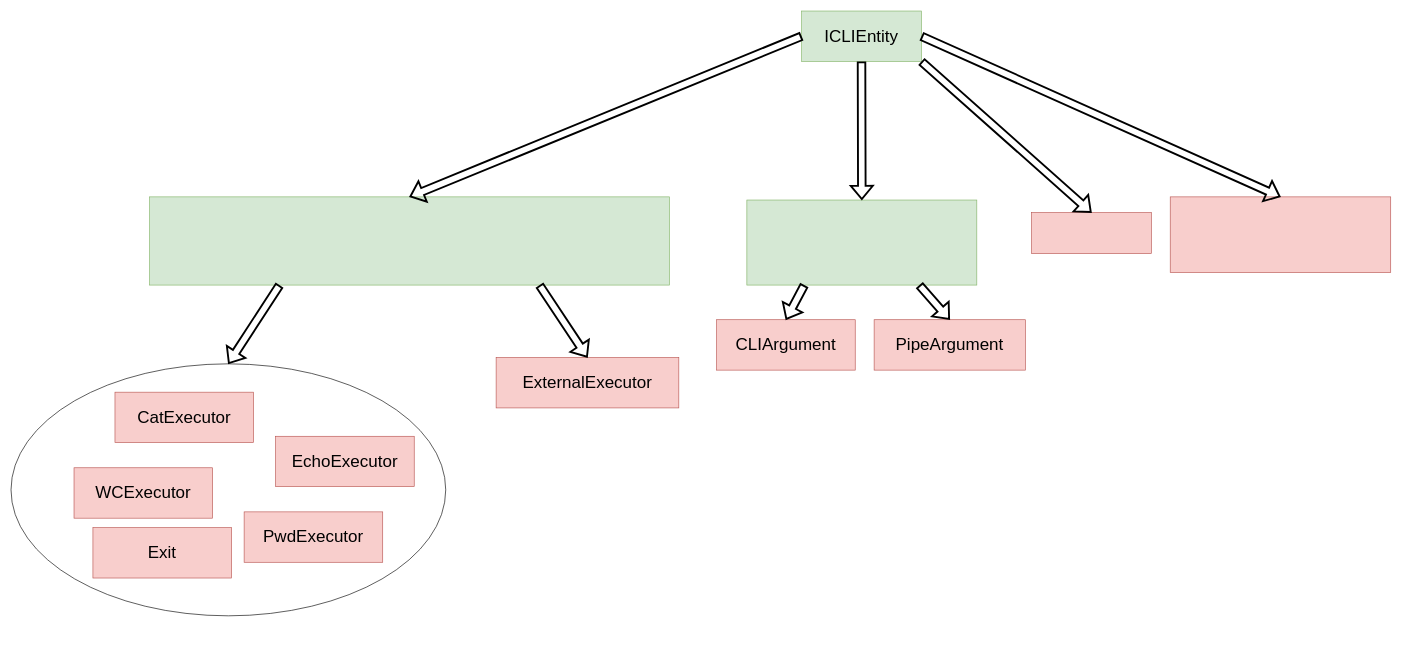
Image size: 1421x646. Some labels were removed from this diagram. The shapes that lost their labels are listed below. From the top down, each one's centre as x and y in pixels, then its label:
At (x=409, y=240): "IKeyword - Optional<PipeArgument> execute(List<IArgument>)".
At (x=861, y=242): "IArgument String getArgument()".
At (x=1091, y=233): "Pipeline".
At (x=1280, y=234): "Initialiation Variable getVariable()".
